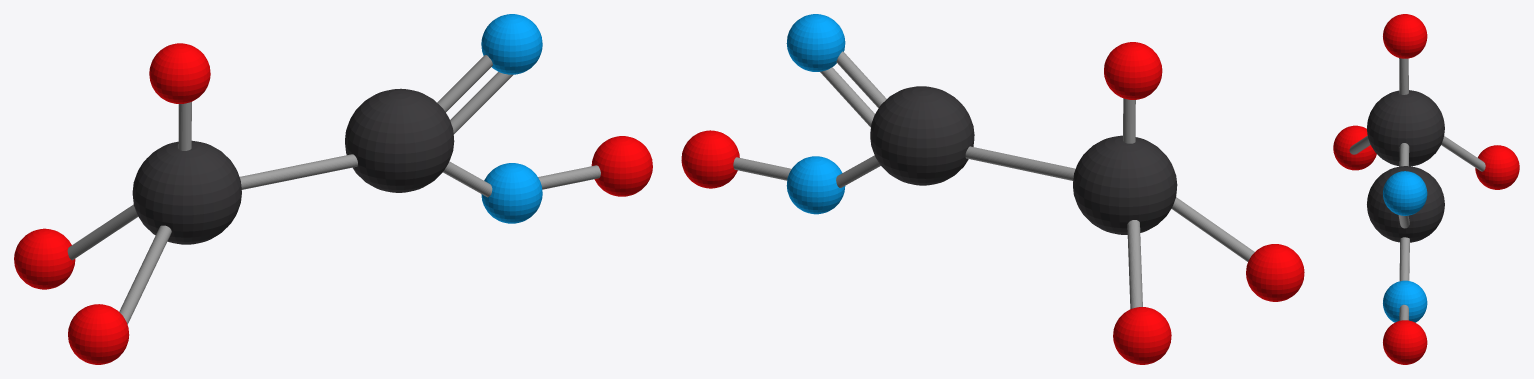
File: acido.gltf
3 views of the same model, side by side, from view 1: azimuth 30°, elevation 25°; view 2: azimuth 150°, elevation 25°; view 3: azimuth 270°, elevation 25° (orthographic). The views are drawn at different scales.
Visible parts, largest first — view 1: Sphere.001, Sphere, Sphere.002, Sphere.003, Sphere.005, Sphere.004, Sphere.007, Sphere.006, Cylinder.002, Cylinder, Cylinder.004, Cylinder.003 (+4 smaller); view 2: Sphere.001, Sphere, Sphere.003, Sphere.002, Sphere.004, Sphere.005, Sphere.007, Sphere.006, Cylinder.002, Cylinder, Cylinder.004, Cylinder.003 (+4 smaller); view 3: Sphere, Sphere.001, Sphere.003, Sphere.007, Sphere.005, Sphere.004, Sphere.006, Sphere.002, Cylinder.004, Cylinder.006, Cylinder.001, Cylinder.002 (+1 smaller).
Part boxes in pixels (<box>): Sphere.001: <box>345,88,454,192</box>; Sphere: <box>132,140,241,244</box>; Sphere.002: <box>68,304,129,364</box>; Sphere.003: <box>149,43,210,103</box>; Sphere.005: <box>481,14,542,74</box>; Sphere.004: <box>14,228,75,289</box>; Sphere.007: <box>591,136,652,196</box>; Sphere.006: <box>481,163,542,223</box>; Cylinder.002: <box>239,154,357,189</box>; Cylinder: <box>119,225,171,324</box>; Cylinder.004: <box>67,204,138,260</box>; Cylinder.003: <box>450,72,513,134</box>; Sphere.001: <box>870,86,974,185</box>; Sphere: <box>1073,135,1177,234</box>; Sphere.003: <box>1104,42,1162,99</box>; Sphere.002: <box>1246,244,1304,301</box>; Sphere.004: <box>1113,307,1171,364</box>; Sphere.005: <box>786,14,845,71</box>; Sphere.007: <box>681,130,739,188</box>; Sphere.006: <box>786,156,845,214</box>; Cylinder.002: <box>965,146,1075,180</box>; Cylinder: <box>1171,197,1254,261</box>; Cylinder.004: <box>1127,220,1142,308</box>; Cylinder.003: <box>820,67,874,127</box>; Sphere: <box>1367,90,1444,166</box>; Sphere.001: <box>1367,166,1444,242</box>; Sphere.003: <box>1383,14,1427,58</box>; Sphere.007: <box>1383,320,1427,364</box>; Sphere.005: <box>1383,171,1427,215</box>; Sphere.004: <box>1475,145,1519,189</box>; Sphere.006: <box>1383,280,1427,322</box>; Sphere.002: <box>1333,125,1376,170</box>; Cylinder.004: <box>1441,136,1485,171</box>; Cylinder.006: <box>1399,237,1409,281</box>; Cylinder.001: <box>1399,58,1408,94</box>; Cylinder.002: <box>1399,143,1409,166</box>.
Bounding box in the file's own units: 29.7 × 12.5 × 10.68.
